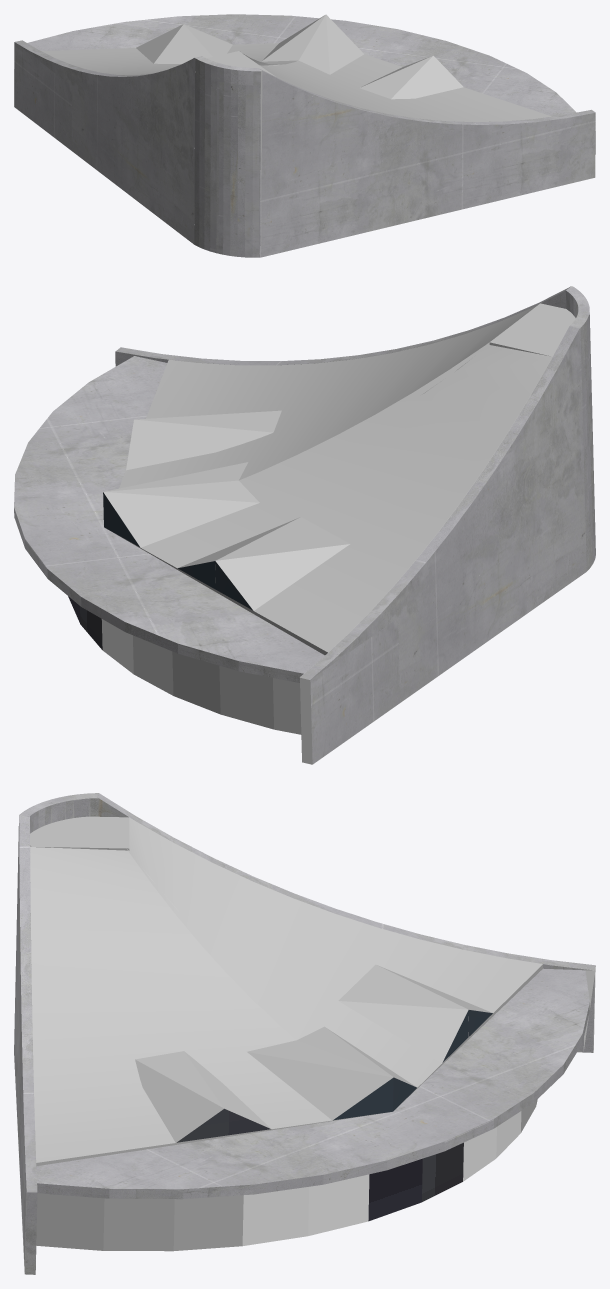
Rendered from 129 Hughson St S, Hamilton, ON L8N 2B3.fbx.
3 renders of one model, top to bottom at view 1: azimuth 30°, elevation 25°; view 2: azimuth 150°, elevation 25°; view 3: azimuth 270°, elevation 25°, orthographic. The views are drawn at different scales.
Visible parts, largest first — view 1: instance_0; view 2: instance_0, instance_0.002; view 3: instance_0.
Part boxes in pixels (x1,y1,x2,y2): instance_0: (14,14,595,257); instance_0: (14,286,595,764); instance_0.002: (300,677,312,764); instance_0: (14,793,595,1274).
Bounding box in the file's own units: 1948 × 958 × 2013.
